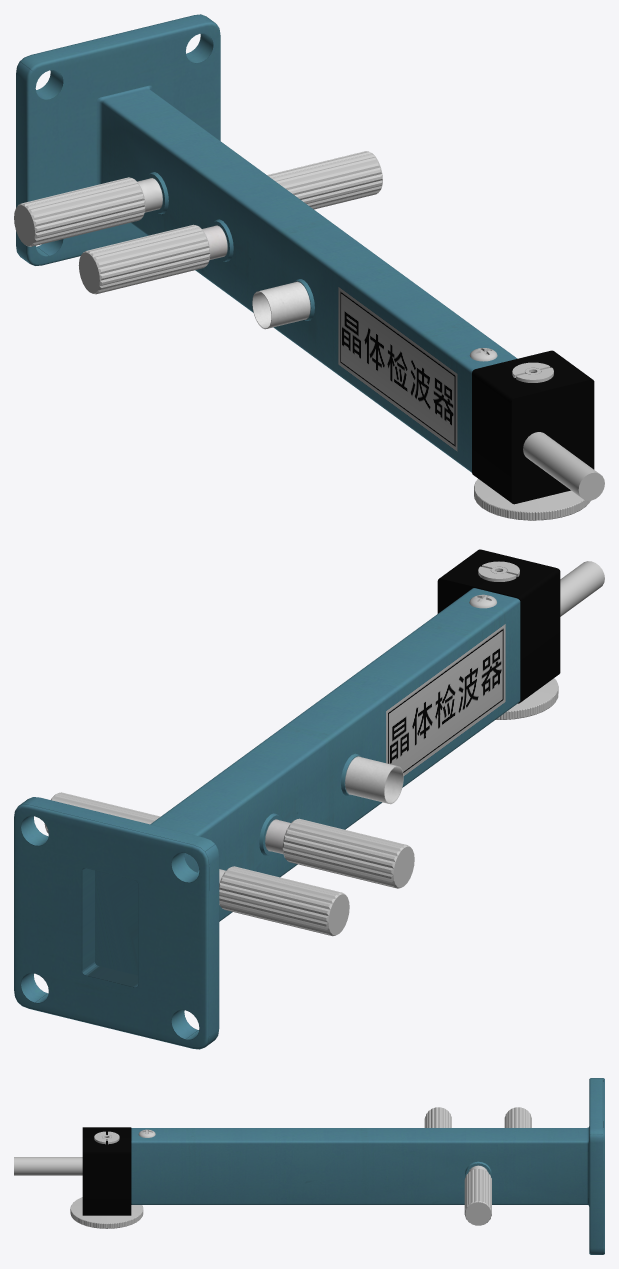
Rendered from Jing_Ti_Jian_Ce_Bo(3).FBX.
3 views of the same model, one above another, from view 1: azimuth 30°, elevation 25°; view 2: azimuth 150°, elevation 25°; view 3: azimuth 270°, elevation 25° (orthographic). The views are drawn at different scales.
Visible parts, largest first — view 1: 对象017, 对象009, 对象014, 对象012, 对象011, 对象010, 对象008, 对象013, 对象015; view 2: 对象017, 对象009, 对象014, 对象011, 对象012, 对象015, 对象008, 对象010, 对象013; view 3: 对象017, 对象014, 对象009, 对象010, 对象008, 对象013, 对象012, 对象011.
Boxes of the visible parts, bbox=[...] form: 对象017: bbox=[96, 85, 517, 472]; 对象009: bbox=[16, 14, 220, 265]; 对象014: bbox=[472, 350, 594, 504]; 对象012: bbox=[14, 177, 145, 246]; 对象011: bbox=[78, 224, 210, 294]; 对象010: bbox=[267, 151, 382, 209]; 对象008: bbox=[523, 432, 604, 500]; 对象013: bbox=[474, 479, 590, 520]; 对象015: bbox=[252, 281, 310, 329]; 对象017: bbox=[95, 588, 520, 975]; 对象009: bbox=[14, 797, 219, 1049]; 对象014: bbox=[437, 549, 560, 703]; 对象011: bbox=[282, 818, 414, 888]; 对象012: bbox=[219, 866, 349, 936]; 对象015: bbox=[345, 756, 403, 804]; 对象008: bbox=[560, 561, 604, 616]; 对象010: bbox=[44, 792, 160, 833]; 对象013: bbox=[495, 678, 558, 719]; 对象017: bbox=[131, 1126, 589, 1206]; 对象014: bbox=[82, 1127, 131, 1215]; 对象009: bbox=[589, 1078, 604, 1254]; 对象010: bbox=[464, 1168, 491, 1225]; 对象008: bbox=[14, 1157, 82, 1175]; 对象013: bbox=[70, 1197, 143, 1228]; 对象012: bbox=[504, 1107, 531, 1127]; 对象011: bbox=[424, 1107, 451, 1127].
Size of the model in its own units: 81.33 by 50 by 214.
